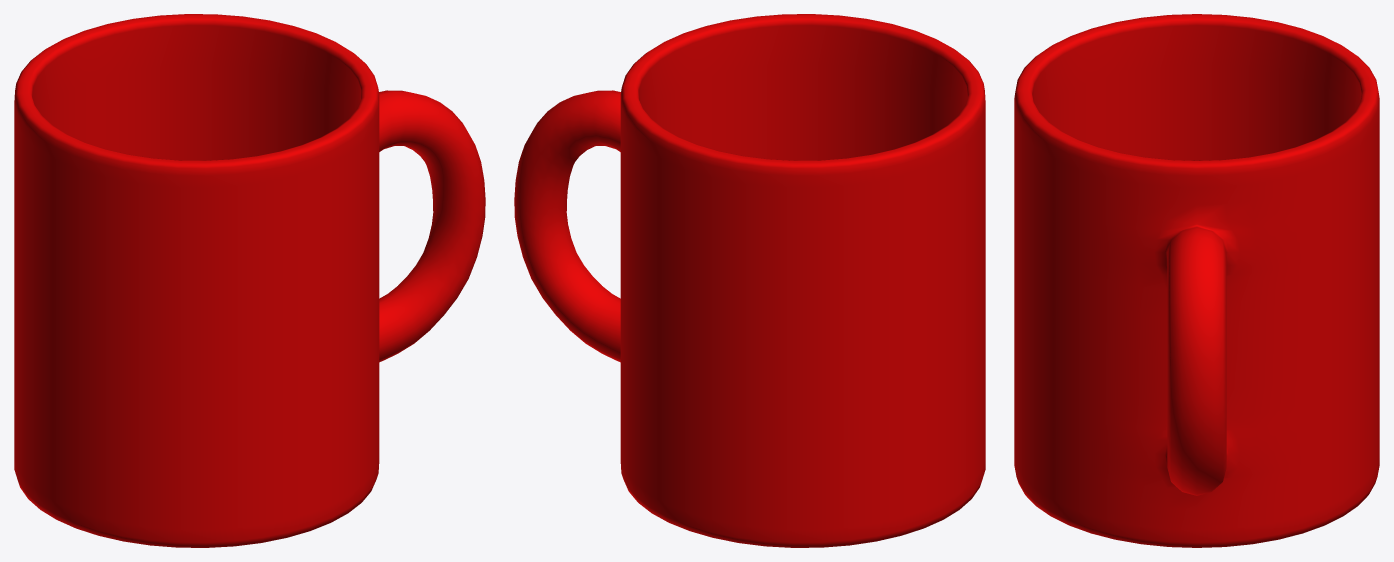
The model's file is mug.fbx.
The picture shows the model from 3 angles, left to right: view 1: azimuth 30°, elevation 25°; view 2: azimuth 150°, elevation 25°; view 3: azimuth 270°, elevation 25°; orthographic projection.
Parts seen in each view (by area): view 1: mug; view 2: mug; view 3: mug.
Boxes of the visible parts, x1,y1,x2,y2 form: mug: (14, 14, 485, 547); mug: (514, 14, 985, 547); mug: (1014, 14, 1379, 547).
Size of the model in its own units: 8.56 by 7.1 by 6.12.
